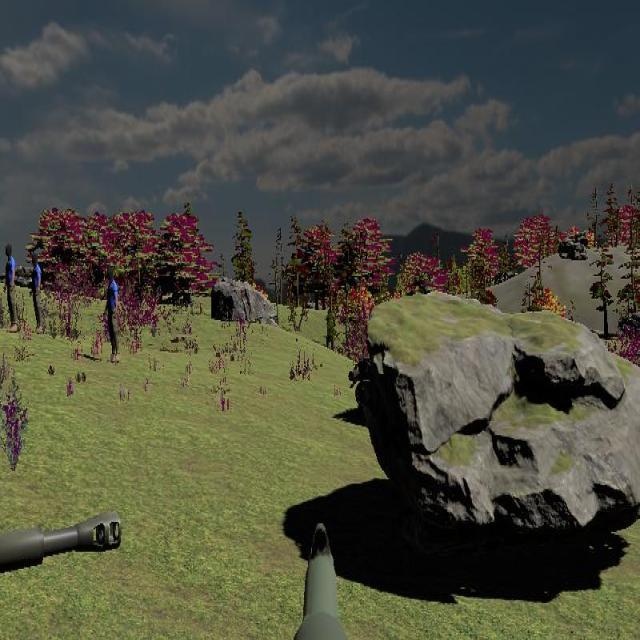Human: (105, 262, 119, 363), (4, 243, 18, 330), (29, 251, 43, 335)
